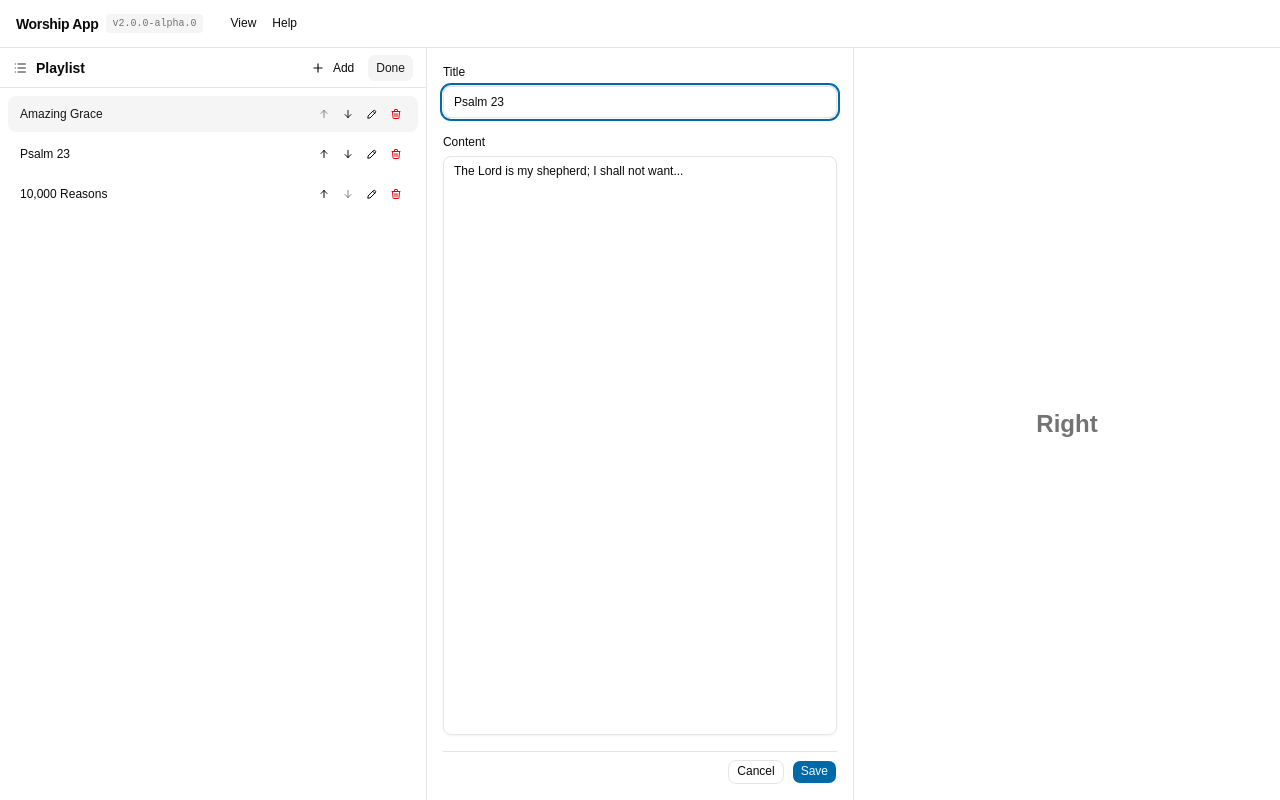
it: Workspace Center Panel Integration › deleting the active item being edited resets editingItemId and returns center panel to SlidesPanel
This screenshot has width=1280, height=800.
Expected: the form named "Edit playlist item" is shown, [427,48,853,799]
Expected: the field labelled "Title" holds "Psalm 23", [443,86,837,118]
# Click delete on Psalm 23 (index 1)
Step 1. Click the button named "Delete item" in the row of "Psalm 23" → (396, 154), box [386,144,406,164]
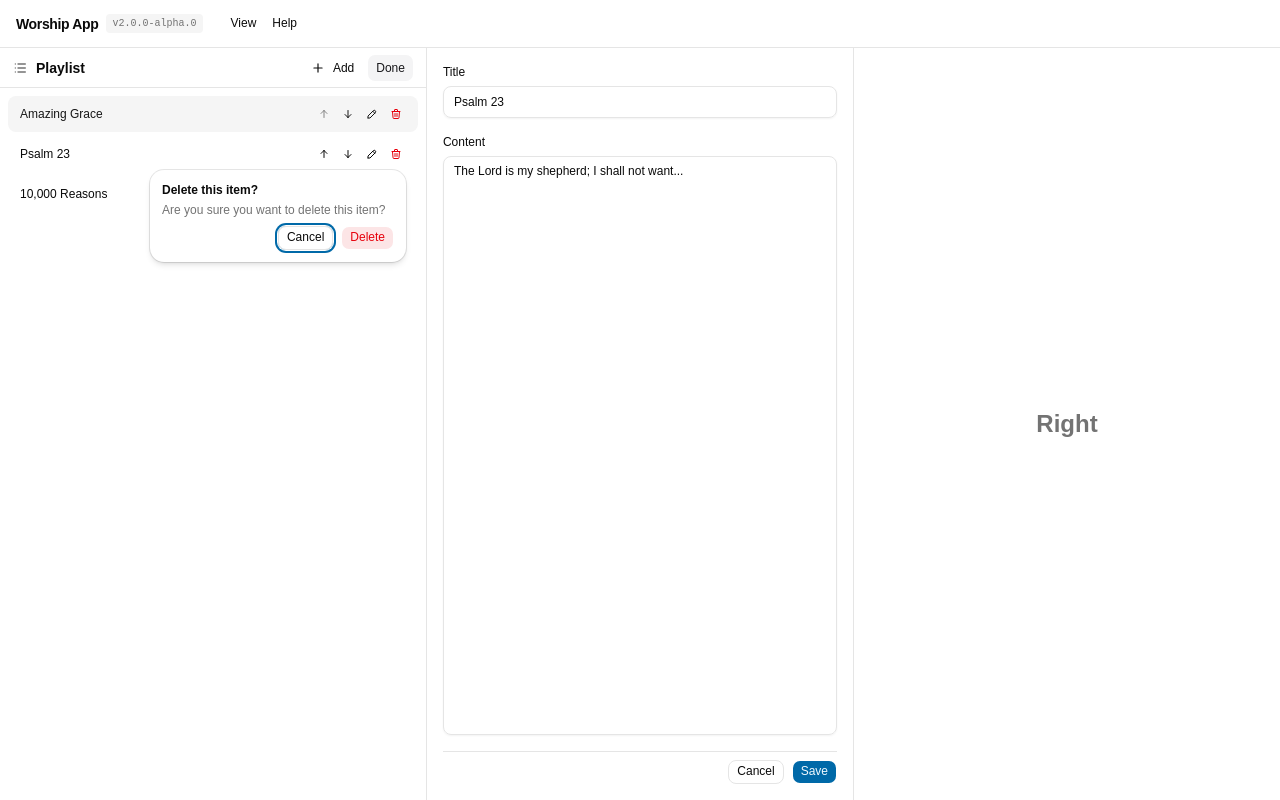
# Confirm delete
Step 2. Click the button "Delete" → (368, 238), box [341,226,394,250]
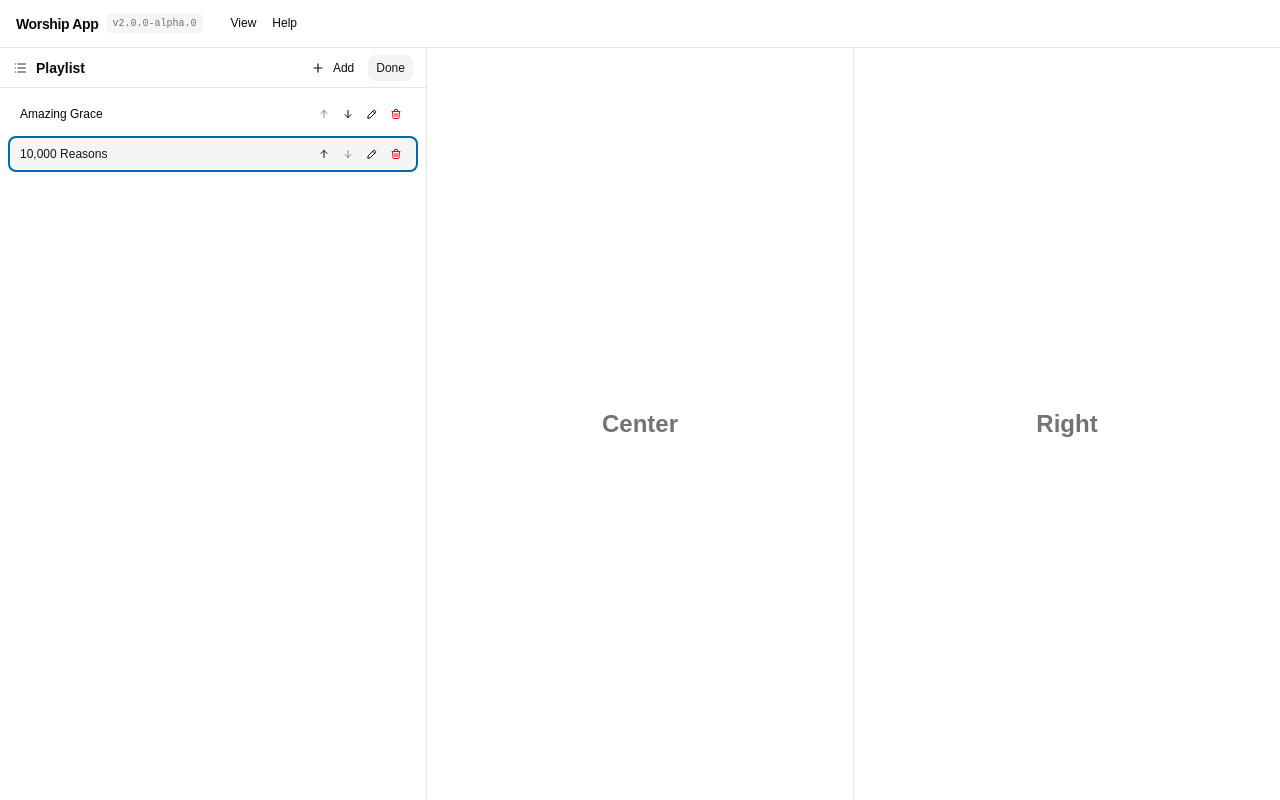
Now the text "Center" is shown, box [602,408,678,440]
